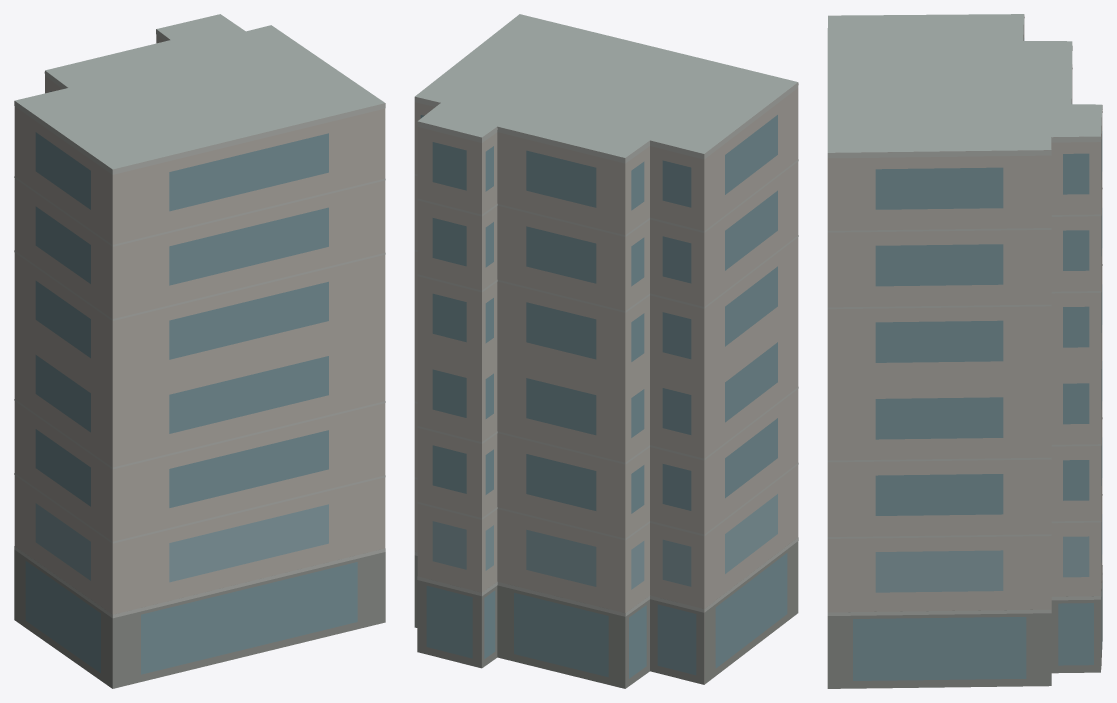
Rendered from survey-upis-32873808.glb.
3 renders of one model, left to right at view 1: azimuth 30°, elevation 25°; view 2: azimuth 150°, elevation 25°; view 3: azimuth 270°, elevation 25°, orthographic. The views are drawn at different scales.
Visible parts, largest first — view 1: survey-upis-32873808.tmp; view 2: survey-upis-32873808.tmp; view 3: survey-upis-32873808.tmp.
Boxes of the visible parts, x1,y1,x2,y2 form: survey-upis-32873808.tmp: (14, 14, 385, 688); survey-upis-32873808.tmp: (414, 14, 798, 688); survey-upis-32873808.tmp: (827, 14, 1102, 688).
Size of the model in its own units: 13.03 by 23.4 by 10.9.
